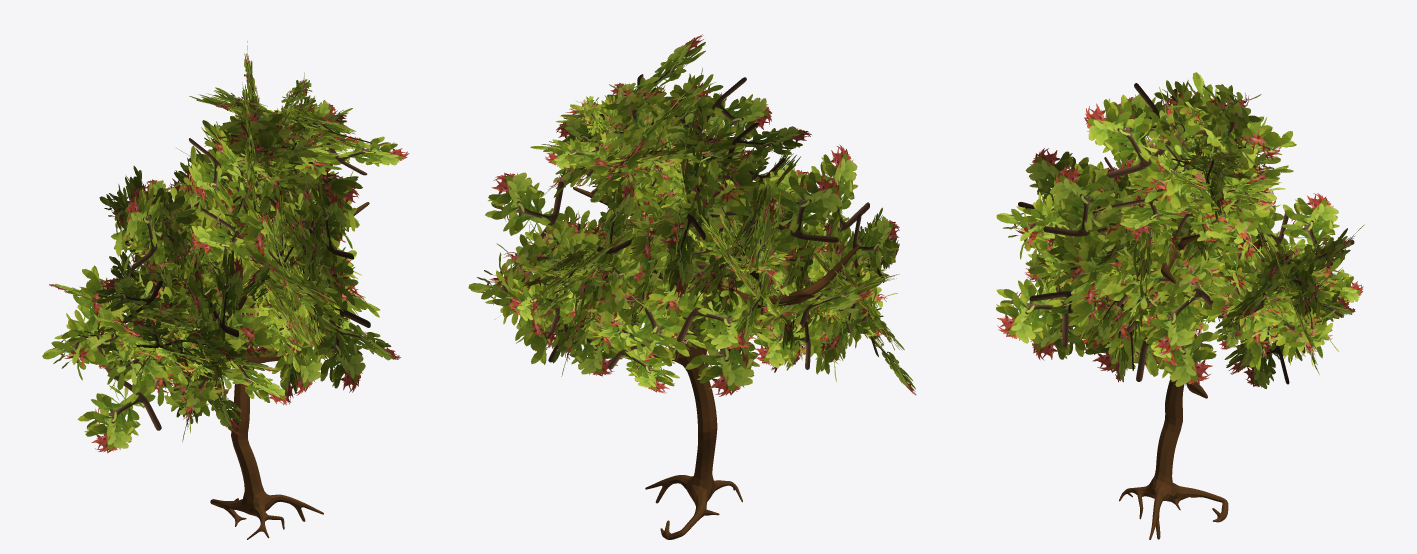
The model's file is FloweringTree2.fbx.
3 renders of one model, left to right at view 1: azimuth 30°, elevation 25°; view 2: azimuth 150°, elevation 25°; view 3: azimuth 270°, elevation 25°, orthographic. The views are drawn at different scales.
Visible parts, largest first — view 1: Flower Tree 3 Leaves; view 2: Flower Tree 3 Leaves; view 3: Flower Tree 3 Leaves.
Boxes of the visible parts, bbox=[...] form: Flower Tree 3 Leaves: bbox=[42, 41, 409, 539]; Flower Tree 3 Leaves: bbox=[468, 34, 916, 539]; Flower Tree 3 Leaves: bbox=[996, 72, 1364, 539].
Bounding box in the file's own units: 325 × 412 × 314.
